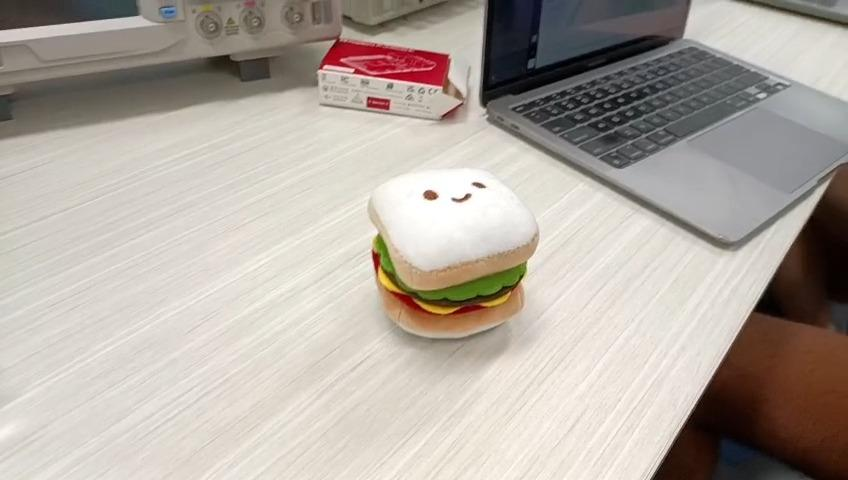objects: (358, 164, 543, 341)
